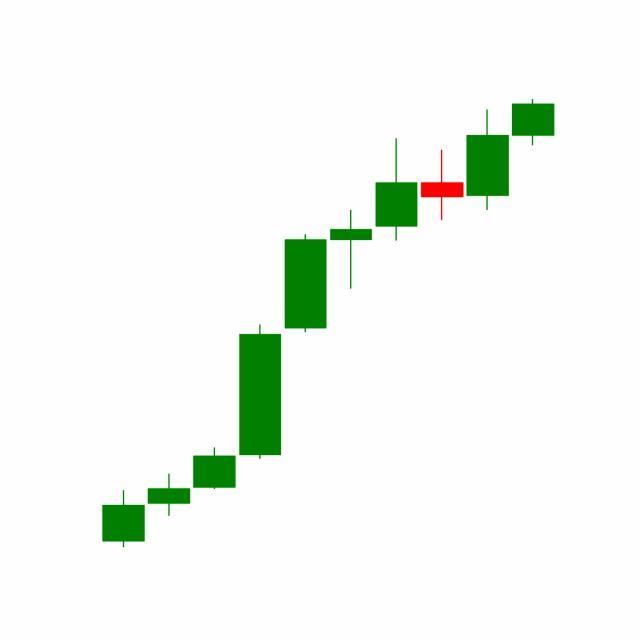Hikkake Pattern: (283, 108, 512, 336)
